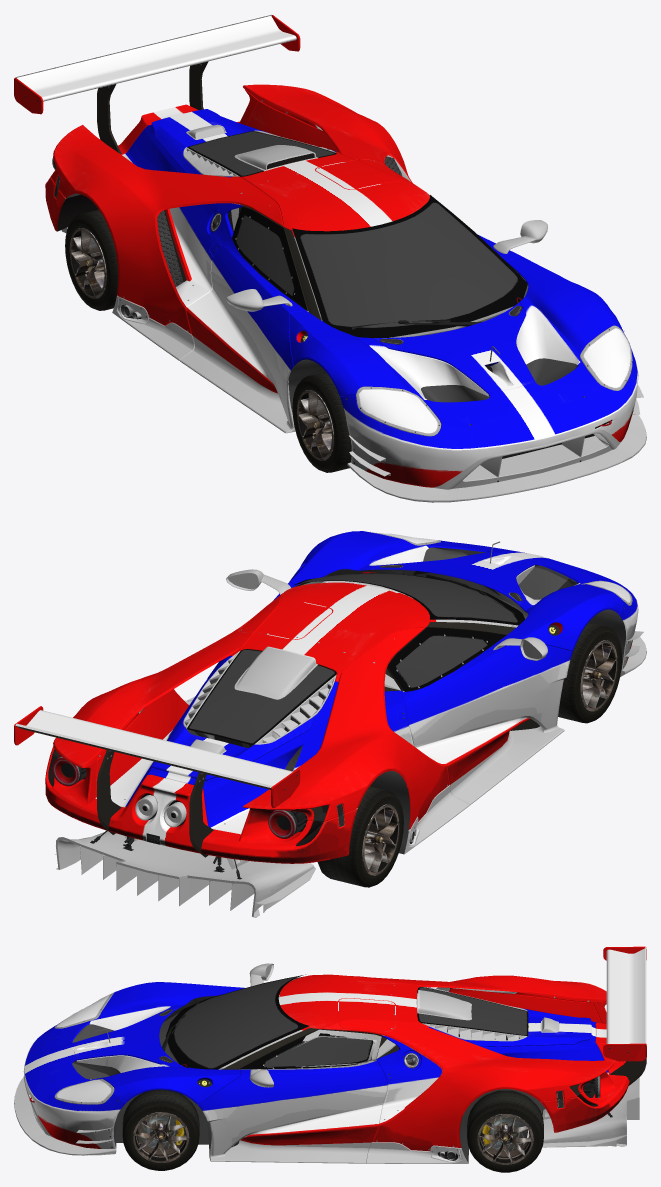
3 views of the same model, one above another, from view 1: azimuth 30°, elevation 25°; view 2: azimuth 150°, elevation 25°; view 3: azimuth 270°, elevation 25° (orthographic). The views are drawn at different scales.
Parts seen in each view (by area): view 1: CarBody, Windshield, frontBumper_CF, tire1 (×2), wheel (×2), right_window, rightDoor_CF, chassis, carbody_top, frontLight_Lens_Right, CarbonFiber, rear_window (+5 smaller); view 2: CarBody, chassis_CF, chassis, tire1 (×2), rear_window, Windshield, right_window, CarbonFiber, wheel (×2), rearBumper_parts, rightDoor_CF, boot_grills (+6 smaller); view 3: CarBody, Windshield, tire1 (×2), wheel (×2), chassis, Left_Window, chassis_CF, leftDoor_CF, CarbonFiber, rear_window, frontBumper_CF, carbody_top (+9 smaller).
Boxes of the visible parts, x1,y1,x2,y2 form: CarBody: (14, 14, 638, 487); Windshield: (292, 195, 527, 338); frontBumper_CF: (347, 384, 646, 502); tire1 (×2): (65, 209, 351, 472); wheel (×2): (69, 228, 333, 460); right_window: (232, 207, 307, 309); rightDoor_CF: (180, 335, 294, 433); chassis: (55, 165, 577, 412); carbody_top: (118, 152, 521, 342); frontLight_Lens_Right: (356, 386, 441, 436); CarbonFiber: (112, 145, 317, 360); rear_window: (187, 131, 336, 176); CarBody: (14, 531, 638, 863); chassis_CF: (55, 724, 315, 917); chassis: (52, 547, 625, 879); tire1 (×2): (317, 622, 621, 887); rear_window: (187, 649, 336, 744); Windshield: (293, 573, 524, 625); right_window: (387, 627, 505, 691); CarbonFiber: (234, 647, 469, 854); wheel (×2): (362, 640, 617, 875); rearBumper_parts: (16, 726, 323, 857); rightDoor_CF: (450, 724, 564, 805); boot_grills: (183, 651, 336, 753); CarBody: (23, 946, 646, 1155); Windshield: (165, 974, 308, 1069); tire1 (×2): (122, 1089, 543, 1172); wheel (×2): (133, 1112, 533, 1164); chassis: (72, 995, 612, 1162); Left_Window: (239, 1033, 373, 1069); chassis_CF: (459, 1029, 639, 1147); leftDoor_CF: (209, 1140, 371, 1163); CarbonFiber: (366, 990, 471, 1163); rear_window: (417, 987, 528, 1036); frontBumper_CF: (14, 1076, 116, 1155); carbody_top: (181, 976, 579, 1162).
Size of the model in its own units: 44.53 by 21.49 by 99.27.
